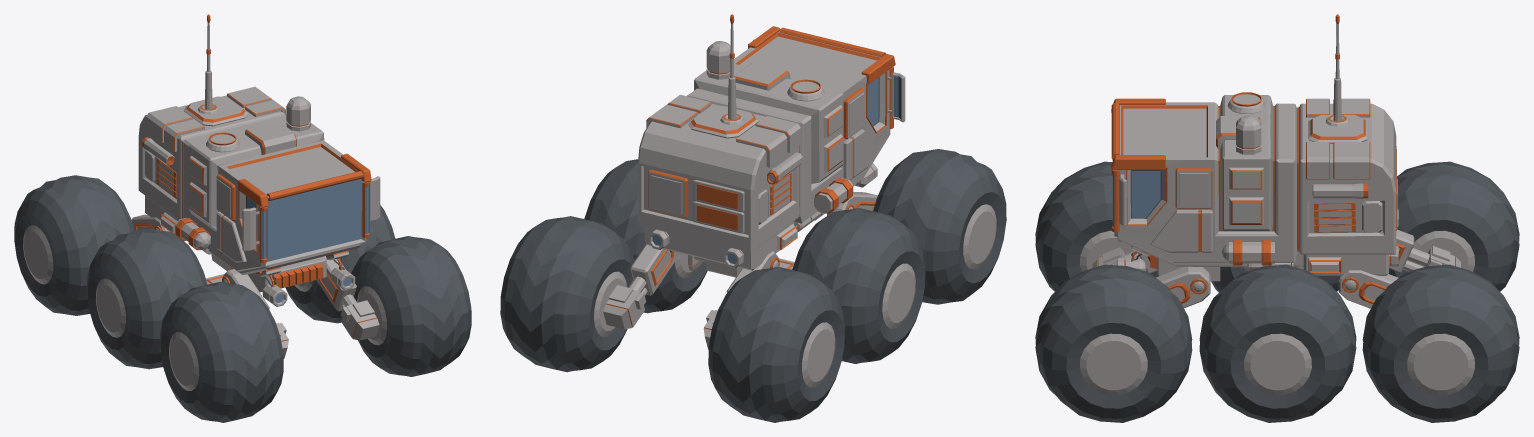
Rendered from Rover_01_Neutral.fbx.
3 views of the same model, side by side, from view 1: azimuth 30°, elevation 25°; view 2: azimuth 150°, elevation 25°; view 3: azimuth 270°, elevation 25° (orthographic). The views are drawn at different scales.
Parts seen in each view (by area): view 1: Rover_01_Neutral; view 2: Rover_01_Neutral; view 3: Rover_01_Neutral.
Boxes of the visible parts, <box> form: Rover_01_Neutral: <box>14,14,471,422</box>; Rover_01_Neutral: <box>500,14,1006,422</box>; Rover_01_Neutral: <box>1035,14,1519,422</box>.
Bounding box in the file's own units: 294 × 322 × 410.
2 materials, 2 textured.
